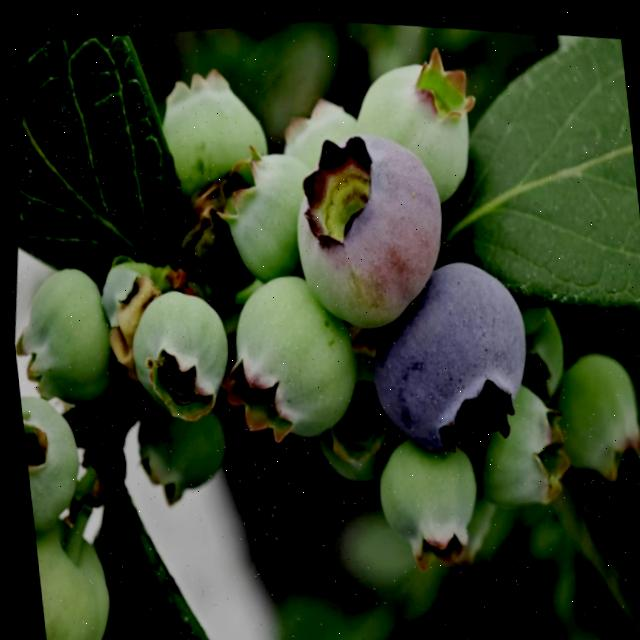RipeBlueBerry: (347, 238, 544, 464)
Semi-RipeBlueBerry: (275, 111, 459, 335)
UnripeBlueBerry: (215, 263, 364, 438), (115, 273, 239, 422), (150, 52, 277, 193)
